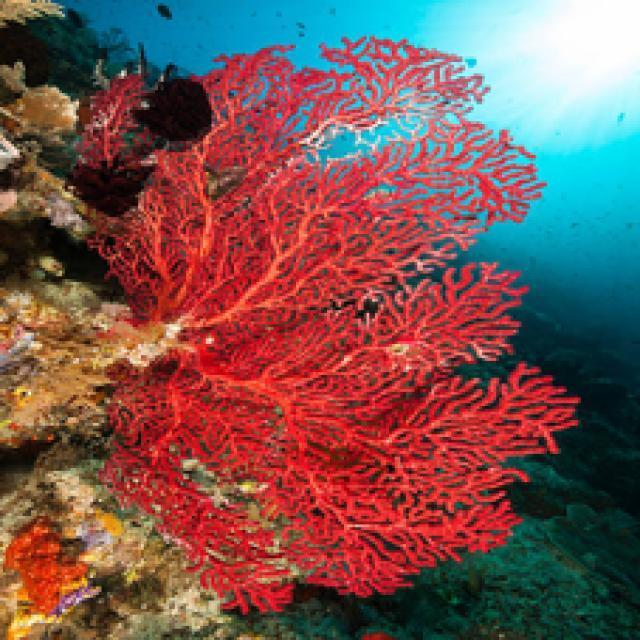Healthy: (79, 34, 580, 619), (6, 519, 89, 619)
